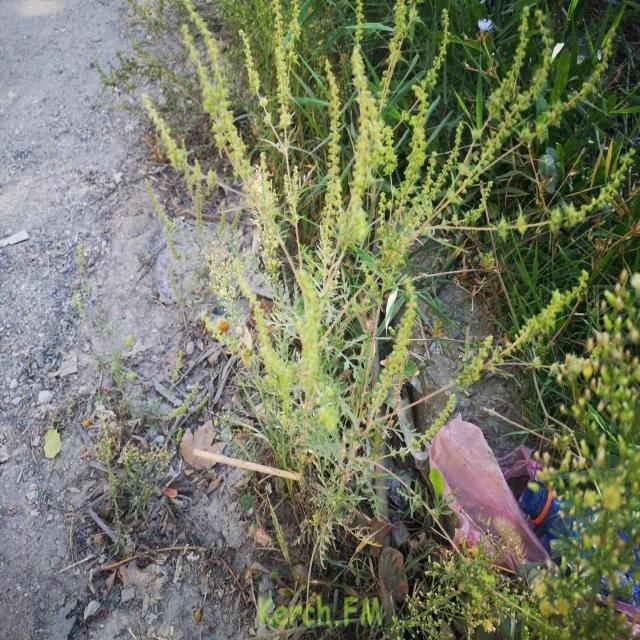ambrosia: (339, 291, 640, 459), (302, 54, 464, 337), (161, 2, 303, 190)
